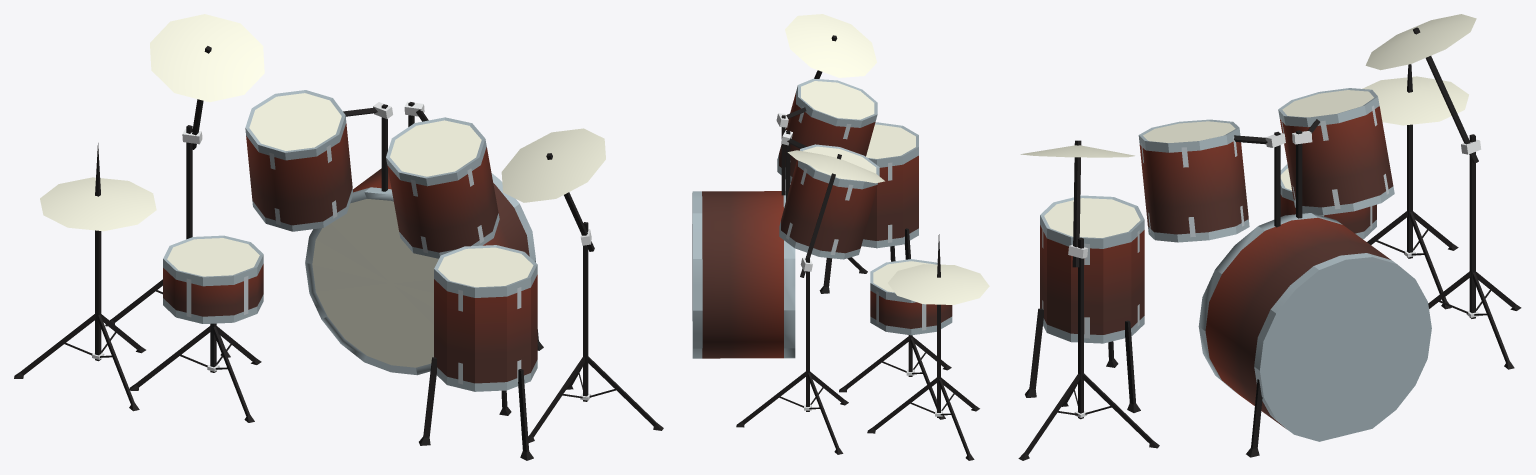
The model's file is M_zawu04.FBX.
3 views of the same model, side by side, from view 1: azimuth 30°, elevation 25°; view 2: azimuth 150°, elevation 25°; view 3: azimuth 270°, elevation 25° (orthographic). The views are drawn at different scales.
Visible parts, largest first — view 1: M_zawu04_03, M_zawu04_02, M_zawu04_04; view 2: M_zawu04_03, M_zawu04_02, M_zawu04_04; view 3: M_zawu04_03, M_zawu04_02, M_zawu04_04.
Part boxes in pixels (bbox=[...]): M_zawu04_03: bbox=[14, 46, 663, 460]; M_zawu04_02: bbox=[40, 14, 605, 231]; M_zawu04_04: bbox=[92, 101, 591, 400]; M_zawu04_03: bbox=[692, 35, 979, 460]; M_zawu04_02: bbox=[785, 14, 989, 304]; M_zawu04_04: bbox=[776, 113, 942, 416]; M_zawu04_03: bbox=[1018, 27, 1521, 460]; M_zawu04_02: bbox=[1020, 14, 1476, 157]; M_zawu04_04: bbox=[1068, 131, 1481, 417].
Bounding box in the file's own units: 3.01 × 2.07 × 2.98.
